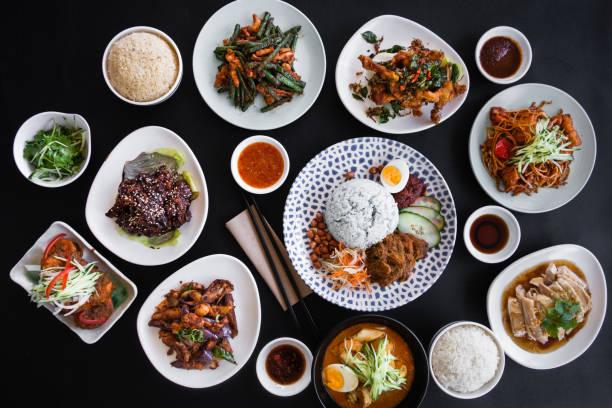Braised Crucian Carp: (282, 136, 450, 311), (192, 0, 325, 131), (85, 126, 206, 267), (135, 254, 259, 390), (469, 82, 596, 213), (333, 14, 469, 135), (9, 221, 136, 343), (486, 243, 606, 370), (309, 313, 429, 407)
